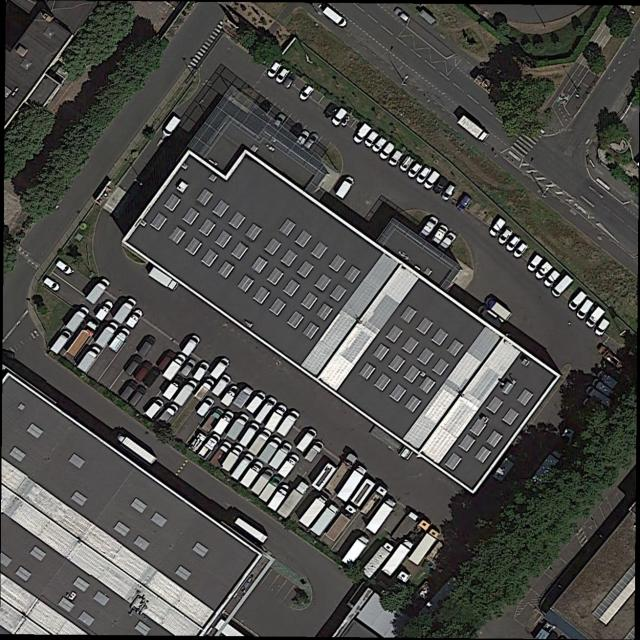large-vehicle: (323, 453, 358, 496), (114, 433, 157, 465), (360, 541, 395, 579), (381, 538, 415, 577), (277, 481, 310, 520), (408, 527, 441, 566), (66, 321, 99, 358), (365, 497, 397, 535), (325, 503, 357, 541), (336, 465, 368, 502), (359, 484, 390, 519), (310, 502, 341, 537), (532, 449, 563, 484), (341, 533, 372, 567), (298, 494, 329, 528), (390, 511, 419, 544), (458, 115, 489, 143), (492, 453, 519, 483), (148, 267, 179, 292), (76, 345, 102, 374), (266, 483, 292, 512), (240, 459, 265, 489), (112, 297, 138, 325), (275, 409, 301, 437), (225, 412, 250, 441), (86, 277, 111, 306), (250, 468, 275, 497), (268, 441, 293, 470), (173, 380, 199, 407), (162, 353, 187, 381), (95, 321, 120, 349), (258, 475, 283, 503), (258, 436, 283, 464), (248, 428, 273, 456), (230, 453, 255, 481), (220, 444, 245, 472), (254, 396, 278, 425), (264, 404, 288, 433), (476, 305, 506, 328), (65, 306, 90, 333), (197, 433, 221, 461), (484, 297, 512, 321), (276, 453, 301, 479), (49, 329, 73, 356), (162, 374, 185, 401), (109, 327, 132, 353), (238, 422, 261, 448), (210, 441, 233, 467), (323, 6, 349, 29), (201, 408, 224, 433), (551, 274, 574, 299), (232, 385, 254, 410), (296, 428, 318, 453), (214, 410, 235, 436), (211, 374, 233, 398), (209, 357, 231, 380), (157, 403, 179, 426), (220, 384, 241, 408), (304, 440, 325, 464), (246, 391, 267, 414), (194, 378, 215, 401), (181, 335, 201, 357), (163, 116, 181, 137)
small-vehicle: (584, 386, 613, 408), (132, 360, 154, 383), (335, 175, 356, 199), (581, 397, 607, 415), (144, 398, 165, 420), (157, 349, 177, 372), (128, 385, 148, 408), (533, 260, 554, 281), (585, 307, 606, 328), (596, 370, 618, 390), (137, 335, 157, 357), (352, 123, 372, 145), (591, 378, 614, 397), (119, 379, 138, 402), (567, 291, 588, 311), (420, 216, 440, 237), (95, 300, 114, 322), (575, 299, 594, 321), (124, 354, 143, 376), (125, 308, 144, 329), (142, 367, 161, 388), (422, 170, 441, 191), (196, 397, 215, 417), (542, 270, 561, 289), (431, 224, 449, 244), (415, 165, 433, 185), (193, 361, 210, 382), (432, 175, 449, 196), (440, 231, 458, 250), (378, 142, 396, 161), (406, 160, 423, 180), (489, 218, 506, 238), (512, 241, 530, 259), (180, 358, 197, 377), (527, 254, 544, 273), (331, 108, 348, 127), (497, 226, 514, 245), (303, 132, 320, 150), (398, 155, 415, 173), (55, 260, 74, 276), (594, 318, 610, 337), (43, 277, 62, 293), (505, 235, 522, 252), (266, 61, 283, 78), (298, 84, 315, 101), (371, 136, 388, 153), (275, 67, 291, 85), (282, 71, 298, 89), (363, 130, 379, 148), (388, 149, 404, 167), (322, 103, 339, 119), (441, 184, 457, 201), (456, 195, 471, 213), (295, 130, 310, 147), (272, 112, 287, 128), (394, 8, 410, 22)
